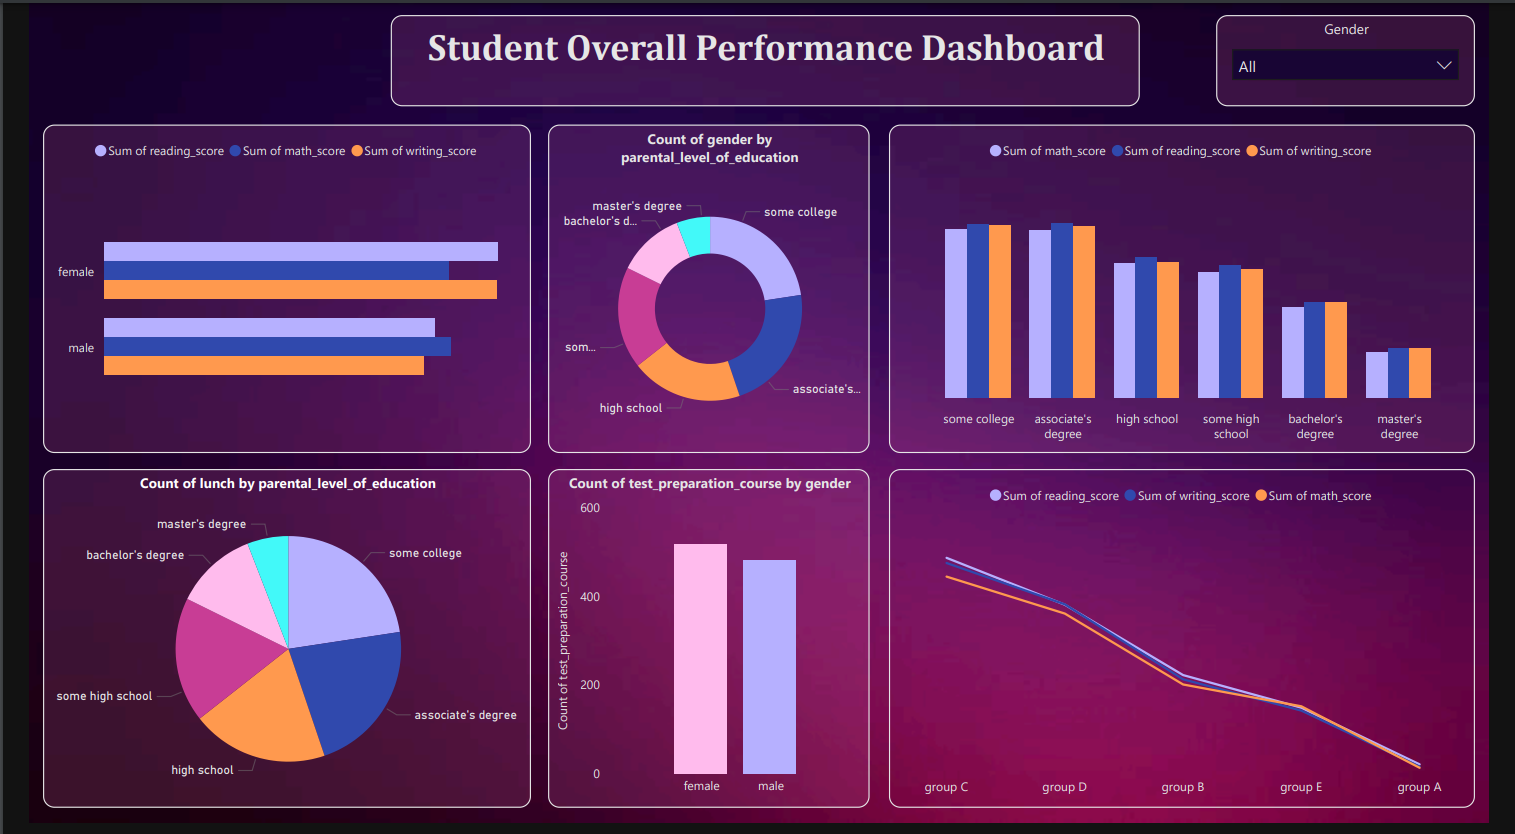

The page's visual inventory and layout, read from the dashboard file:
{"tool":"powerbi","page":{"name":"Page 1","canvas":[1280,720],"ordinal":0},"visuals":[{"type":"lineChart","fields":{"Category":["stud.race_ethnicity"],"Y":["Sum(stud.reading_score)","Sum(stud.writing_score)","Sum(stud.math_score)"]},"box":[754.2,409.9,514,297.3],"z":0},{"type":"textbox","box":[317.5,11.8,656.8,80.6],"z":1000},{"type":"columnChart","fields":{"Category":["stud.gender"],"Y":["CountNonNull(stud.test_preparation_course)"]},"box":[455.2,409.9,282.2,297.3],"z":2000},{"type":"slicer","title":"Gender","fields":{"Values":["stud.gender"]},"box":[1041.5,11.8,226.8,80.6],"z":3000},{"type":"donutChart","fields":{"Category":["stud.parental_level_of_education"],"Y":["CountNonNull(stud.gender)"]},"box":[455.2,107.5,282.2,288.9],"z":4000},{"type":"pieChart","fields":{"Y":["CountNonNull(stud.lunch)"],"Category":["stud.parental_level_of_education"]},"box":[11.8,409.9,428.3,297.3],"z":5000},{"type":"clusteredColumnChart","fields":{"Y":["Sum(stud.math_score)","Sum(stud.reading_score)","Sum(stud.writing_score)"],"Category":["stud.parental_level_of_education"]},"box":[754.2,107.5,514,288.9],"z":6000},{"type":"clusteredBarChart","fields":{"Category":["stud.gender"],"Y":["Sum(stud.reading_score)","Sum(stud.math_score)","Sum(stud.writing_score)"]},"box":[11.8,107.5,428.3,288.9],"z":7000}]}

Visuals, with their boxes in screenshot pixels (x1, y1, x2, y2), scaled from the page's 1280x720 canvas onto the 1515x834 screenshot:
lineChart - stud.race_ethnicity x Sum(stud.reading_score): <region>893, 475, 1501, 819</region>
textbox: <region>376, 14, 1153, 107</region>
columnChart - stud.gender x CountNonNull(stud.test_preparation_course): <region>539, 475, 873, 819</region>
"Gender" slicer: <region>1233, 14, 1501, 107</region>
donutChart - stud.parental_level_of_education x CountNonNull(stud.gender): <region>539, 125, 873, 459</region>
pieChart - CountNonNull(stud.lunch) x stud.parental_level_of_education: <region>14, 475, 521, 819</region>
clusteredColumnChart - Sum(stud.math_score) x Sum(stud.reading_score): <region>893, 125, 1501, 459</region>
clusteredBarChart - stud.gender x Sum(stud.reading_score): <region>14, 125, 521, 459</region>
